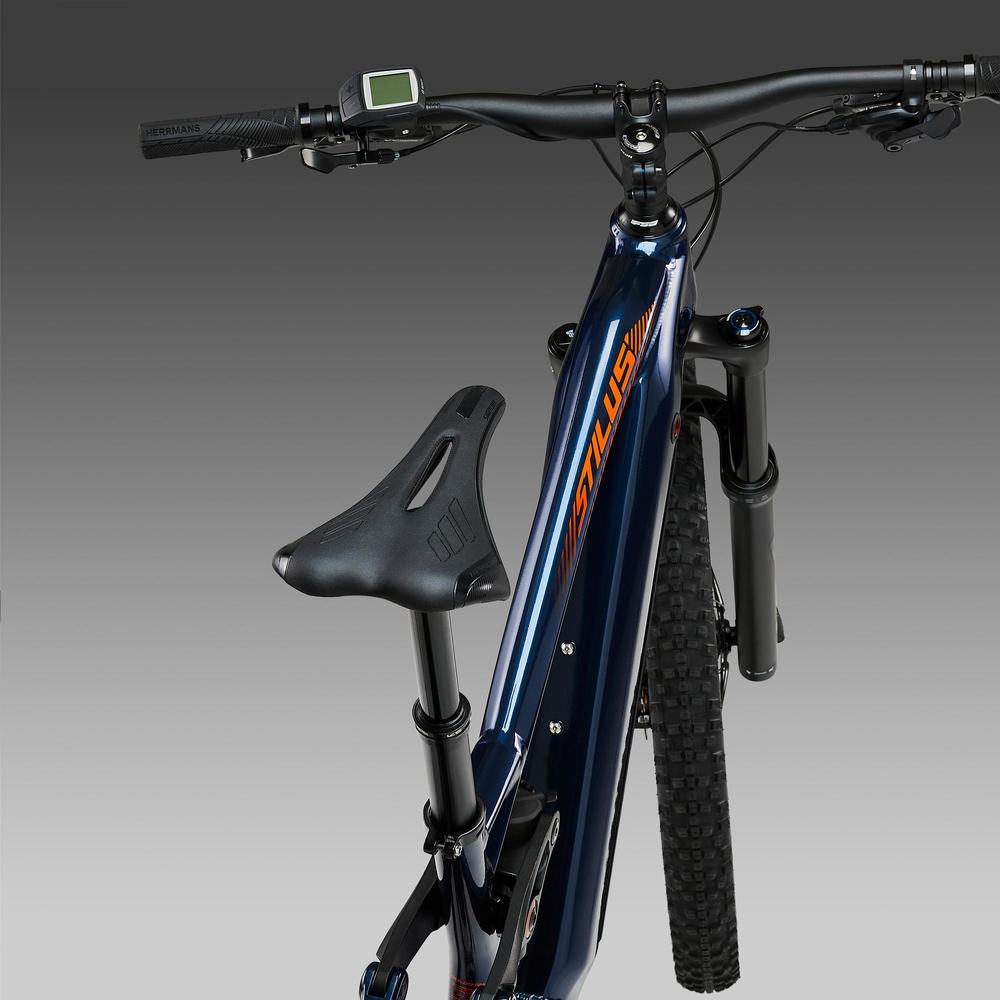MountainBike: (130, 47, 1000, 981)
